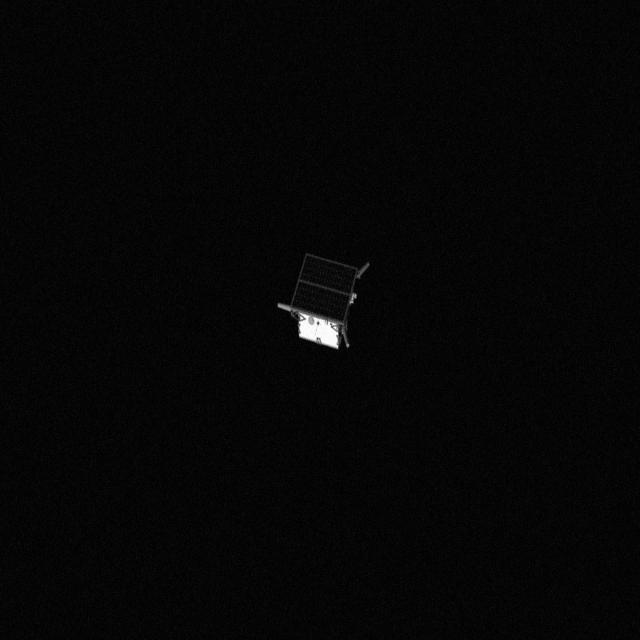satellite: (274, 246, 378, 348)
